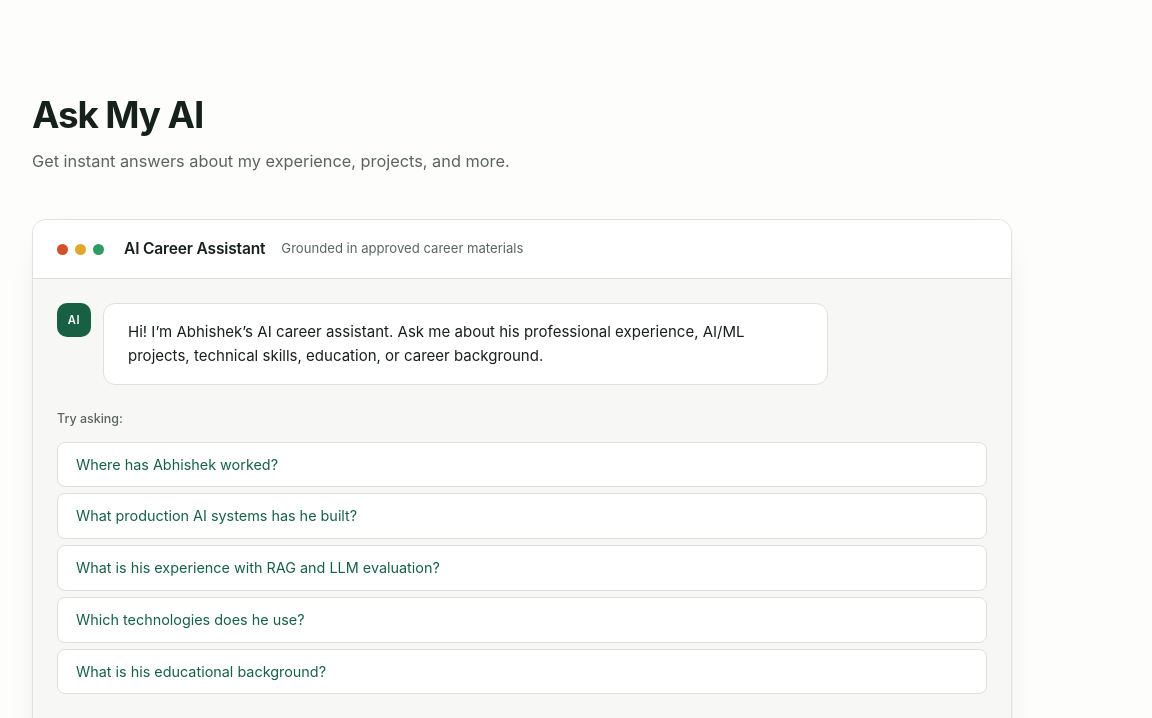
AI career assistant › submits a suggested question, collapses suggestions, and renders the answer
Click the button "Where has Abhishek worked?": (177, 464) x1=57 y1=442 x2=987 y2=487
(page scrolled)
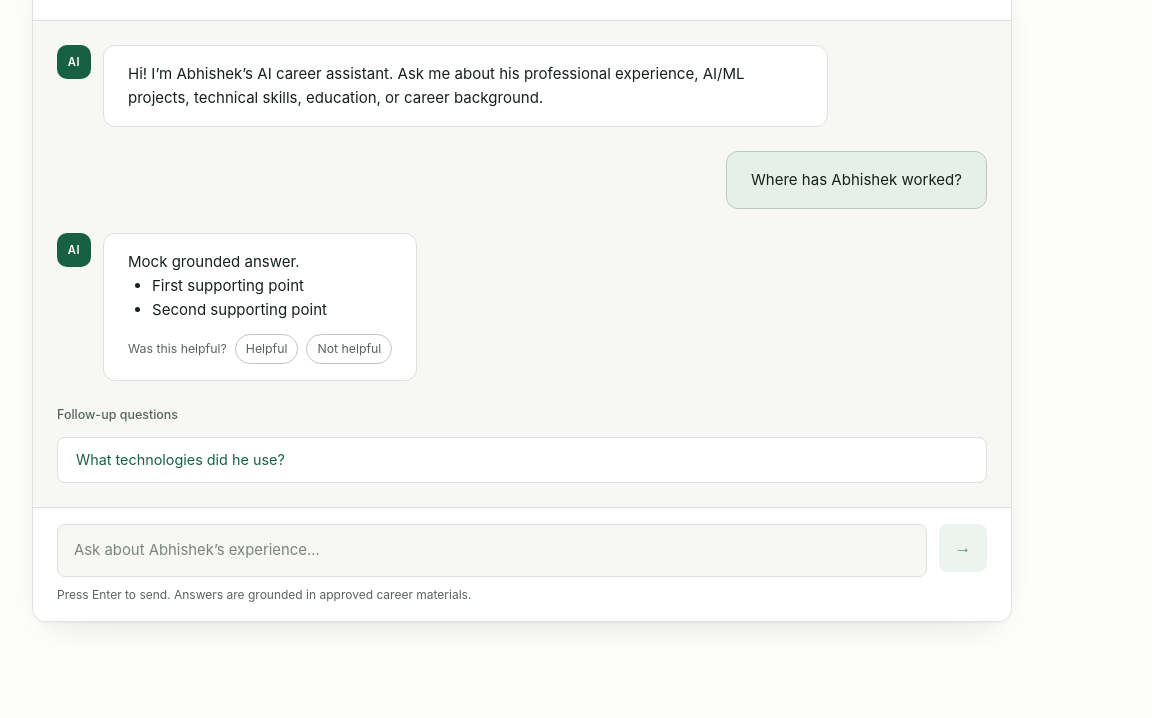
Expected: the text "Mock grounded answer." is shown, x1=128 y1=252 x2=300 y2=271
Expected: the text "Try asking:" is gone
Expected: the text "Follow-up questions" is shown, x1=57 y1=407 x2=178 y2=422
